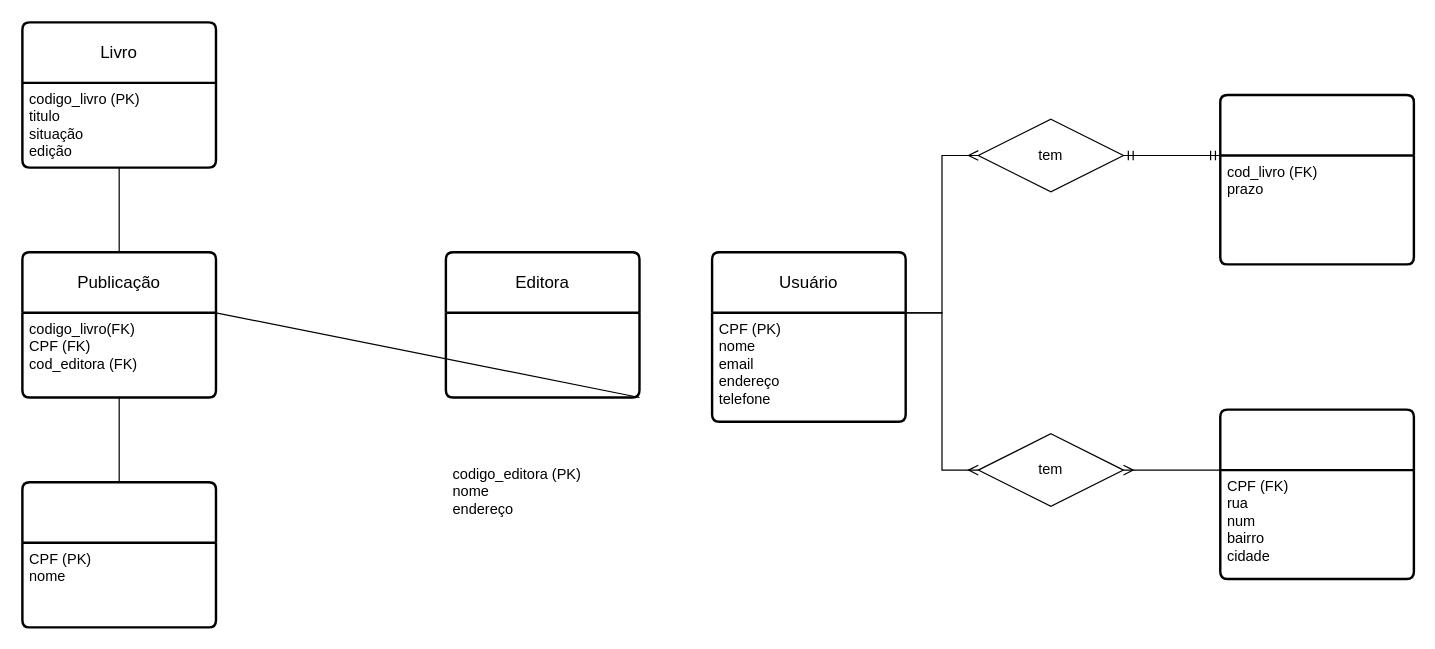
The diagram is 1435 pixels wide and 649 high, and some of its shapes have lost their labels. The box of each missing label's shape, as (x1, y1, x2, y2) in pixels:
Autor: (21, 480, 217, 628)
Emprestimo: (1218, 93, 1414, 265)
Endereço: (1218, 408, 1414, 580)
